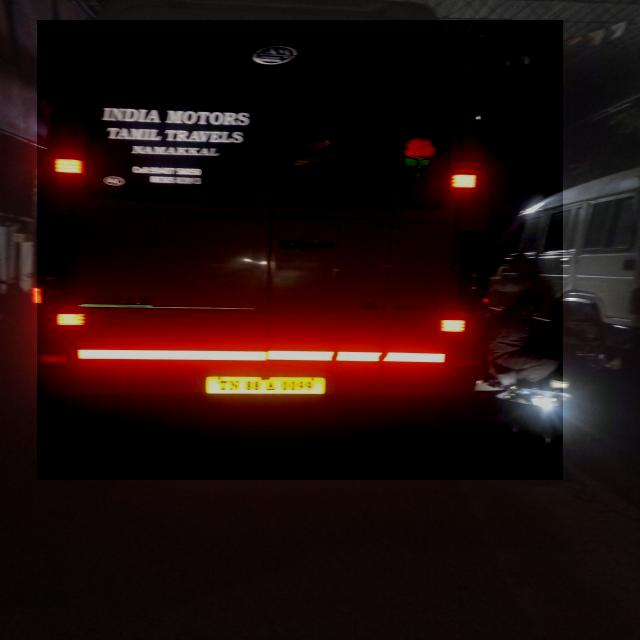Travller: (37, 20, 563, 480)
